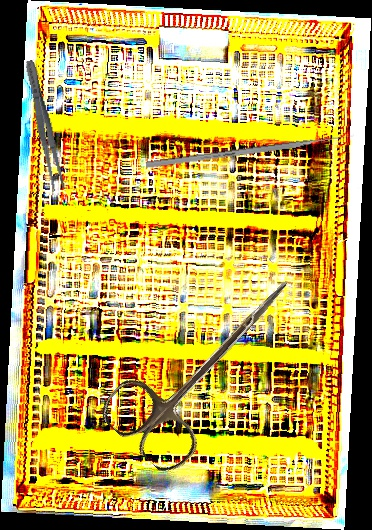Dressing Forceps: (21, 58, 68, 193)
Iris Scissors: (94, 245, 321, 480)
Pusher: (145, 132, 355, 169)
